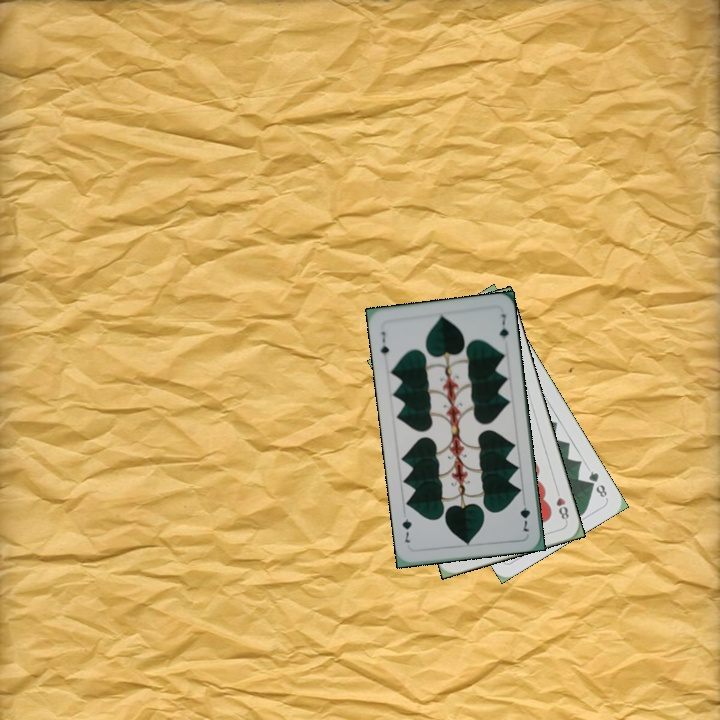G7: (516, 495, 532, 534), (377, 327, 391, 358)
G8: (585, 467, 610, 500)
H8: (552, 485, 571, 525)
